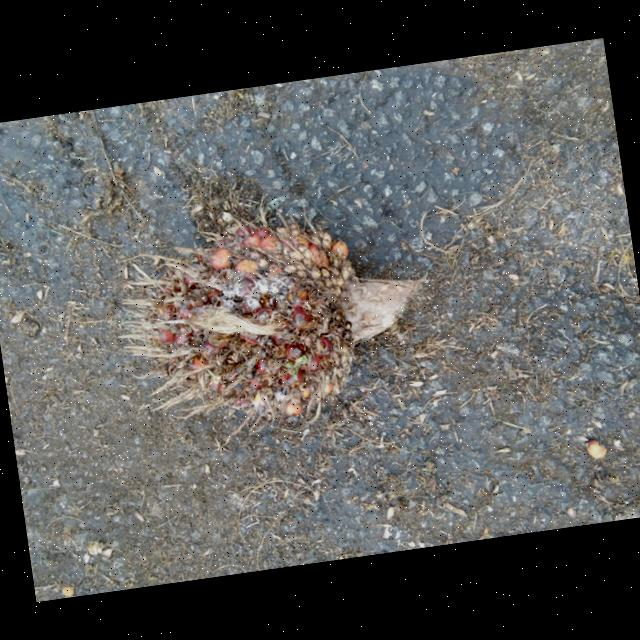Ripe: (138, 220, 365, 418)
